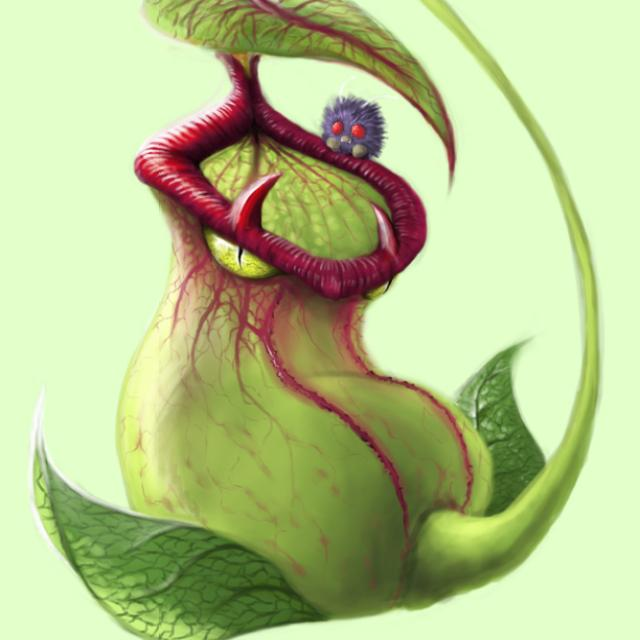Victreebel: (103, 87, 488, 610)
